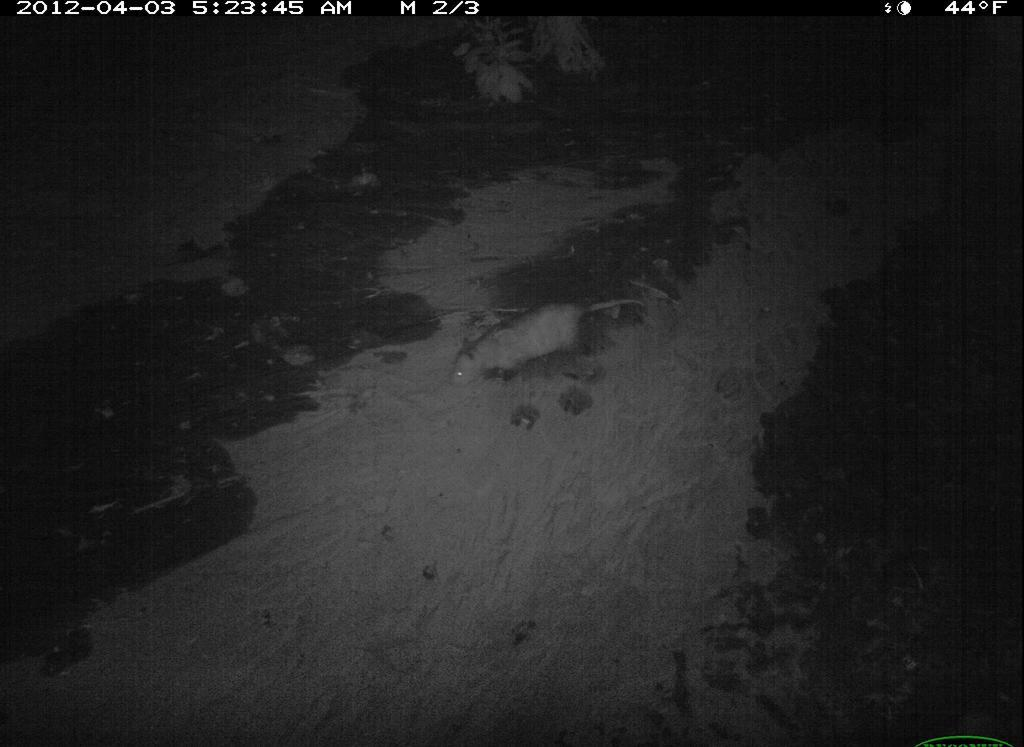opossum: (425, 279, 657, 404)
